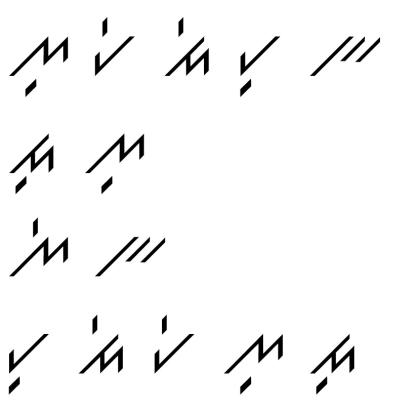de: (77, 313, 128, 387), (162, 14, 212, 80)
du: (304, 326, 359, 396), (9, 131, 58, 193)
ne: (7, 212, 71, 279)
nu: (6, 34, 74, 102), (84, 128, 149, 196), (221, 329, 285, 398)
pe: (150, 310, 199, 379), (92, 15, 139, 79)
pu: (6, 326, 54, 397), (236, 31, 284, 98)
